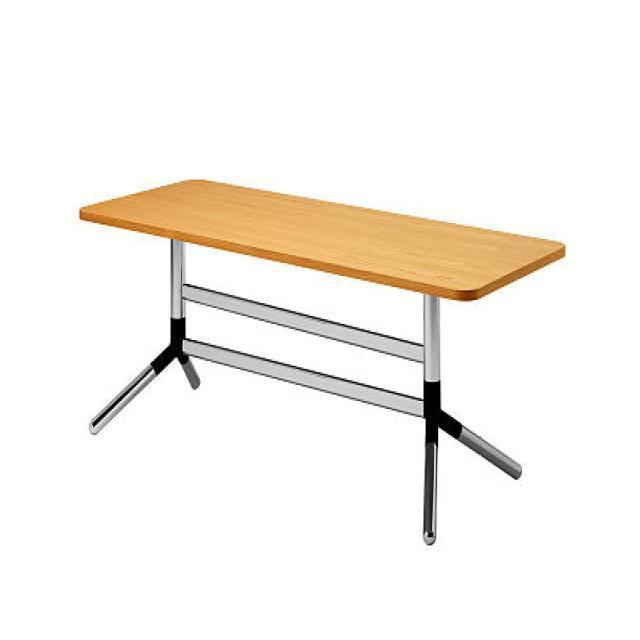table: (78, 177, 566, 546)
